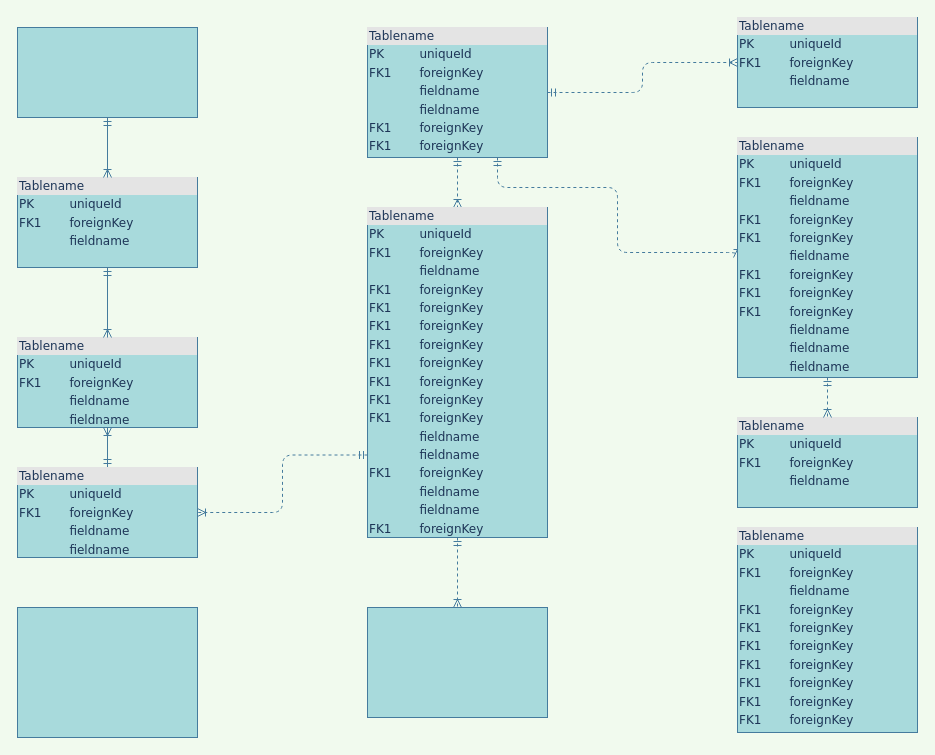
Some shapes in this 935 by 755 pixel diagram are drawn without their labels. The shapes that lost their labels are listed below. From the top down, each one's centre as x and y in pixels, then its label:
At pixel 107 72: "user PK uniqueId FK1 foreignKey fieldname".
At pixel 107 672: "Tablename PK uniqueId FK1 foreignKey fieldname fieldname fieldname fieldname".
At pixel 457 662: "Tablename PK uniqueId FK1 foreignKey fieldname fieldname FK1 foreignKey".
